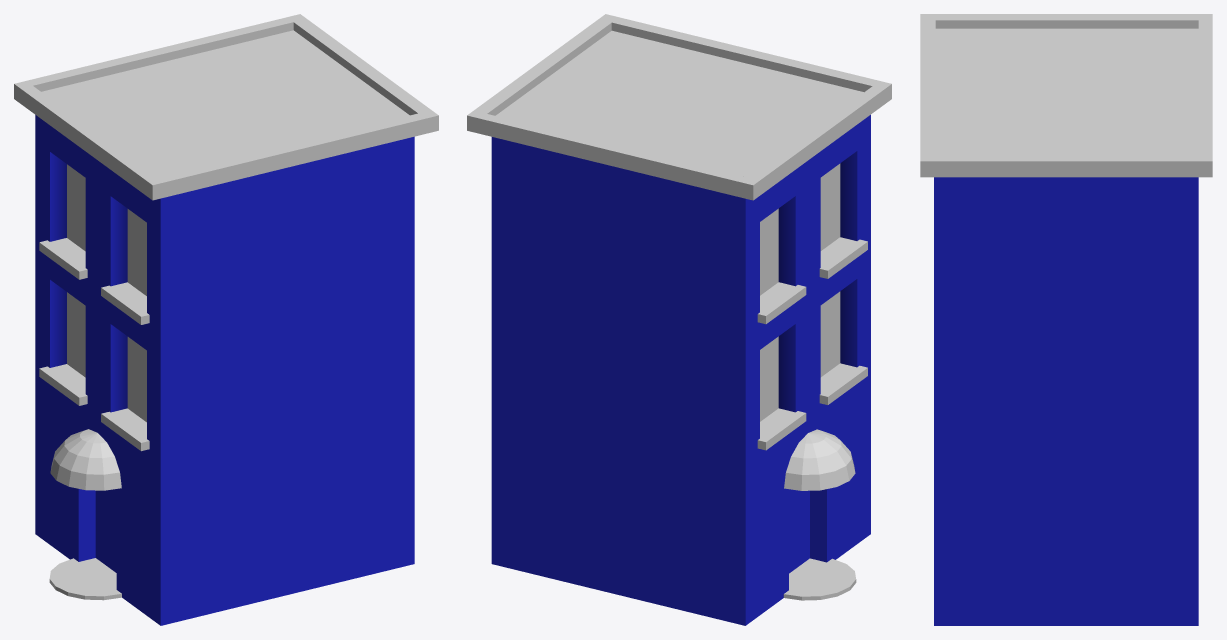
The model's file is building-1_UV.fbx.
3 renders of one model, left to right at view 1: azimuth 30°, elevation 25°; view 2: azimuth 150°, elevation 25°; view 3: azimuth 270°, elevation 25°, orthographic. The views are drawn at different scales.
Visible parts, largest first — view 1: building, roof, building_1, door, windowsill; view 2: building, roof, building_1, door, windowsill; view 3: building, roof.
Boxes of the visible parts, x1,y1,x2,y2 form: building: (35, 115, 414, 625); roof: (14, 14, 438, 200); building_1: (67, 164, 146, 422); door: (49, 429, 121, 600); windowsill: (39, 238, 149, 451); building: (491, 115, 870, 625); roof: (467, 14, 891, 200); building_1: (760, 163, 840, 421); door: (783, 429, 856, 600); windowsill: (757, 237, 867, 450); building: (934, 177, 1198, 625); roof: (920, 14, 1212, 177).
Size of the model in its own units: 1123 by 1535 by 859.
